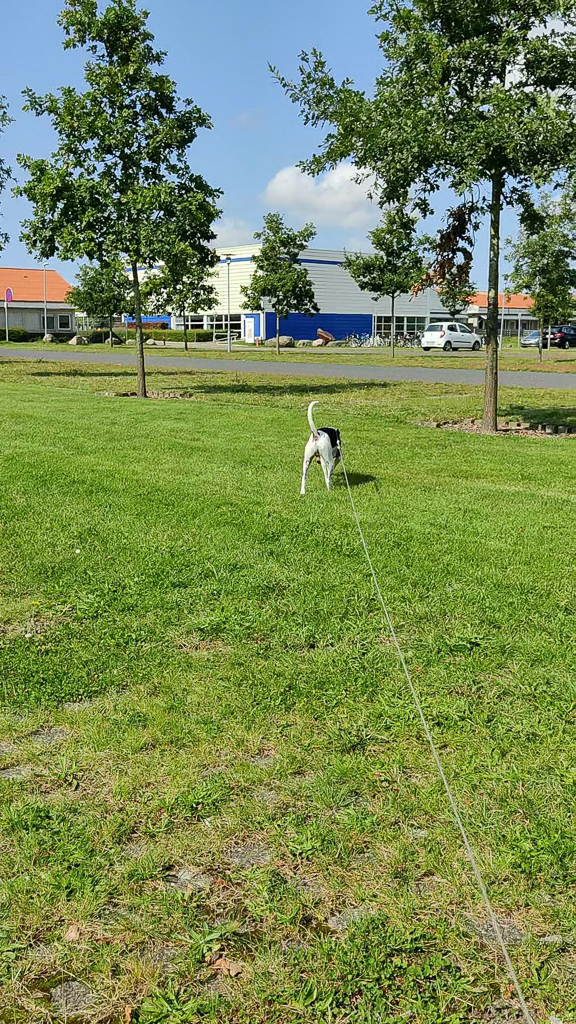Dog: (292, 392, 349, 501)
